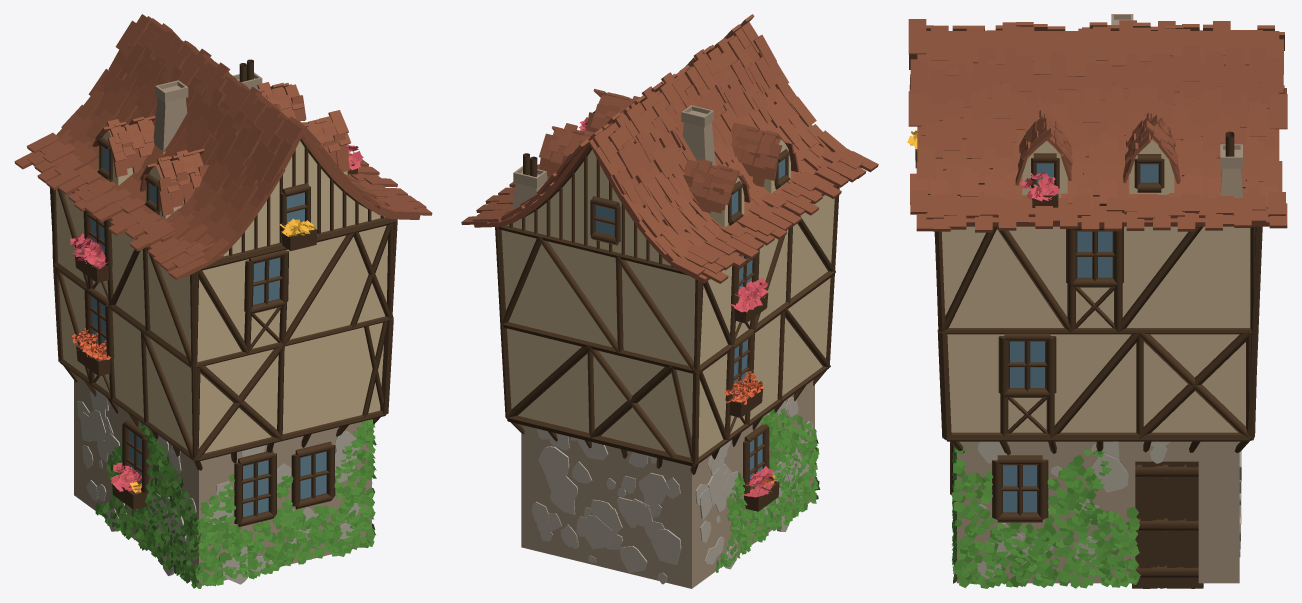
Rendered from compact.glb.
The picture shows the model from 3 angles, left to right: view 1: azimuth 30°, elevation 25°; view 2: azimuth 150°, elevation 25°; view 3: azimuth 270°, elevation 25°; orthographic projection. The views are drawn at different scales.
Parts seen in each view (by area): view 1: MedievalBuilding; view 2: MedievalBuilding; view 3: MedievalBuilding.
Boxes of the visible parts, left/top/right/bottom form: MedievalBuilding: left=14, top=14, right=432, bottom=588; MedievalBuilding: left=461, top=14, right=878, bottom=588; MedievalBuilding: left=907, top=14, right=1287, bottom=588.
Bounding box in the file's own units: 4.85 × 8.27 × 5.39.
